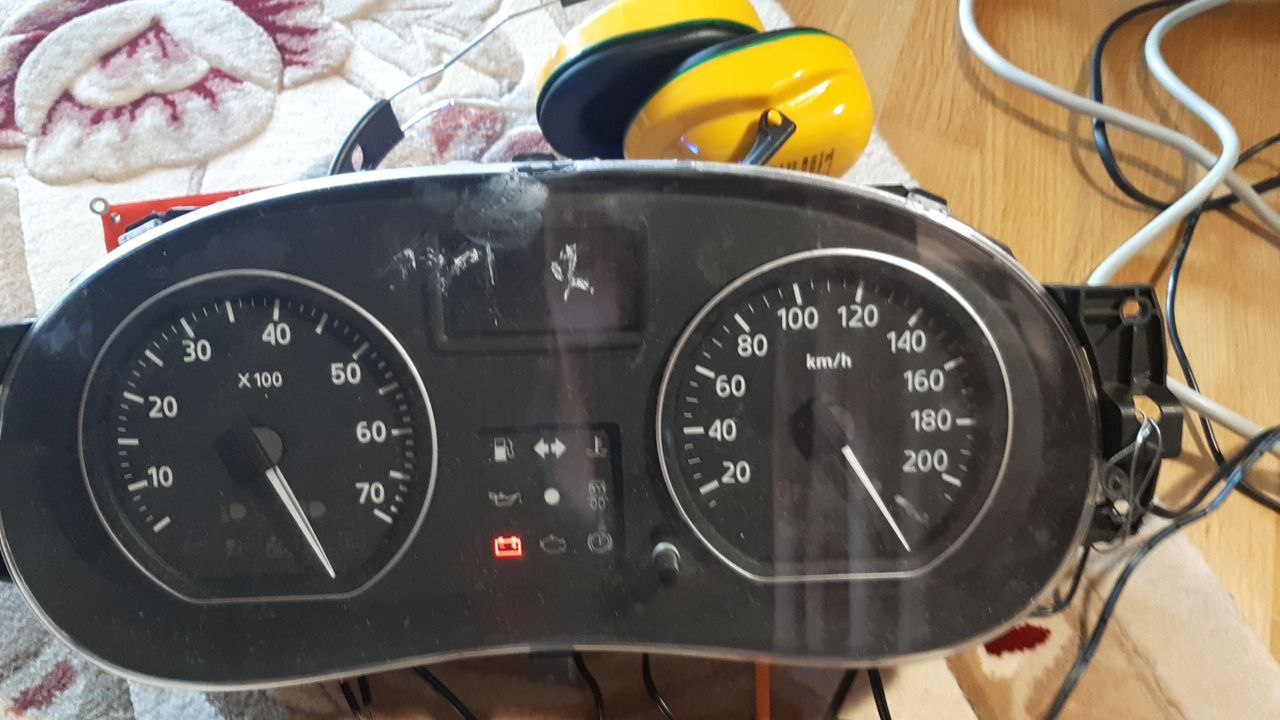accumulator: (491, 534, 526, 560)
